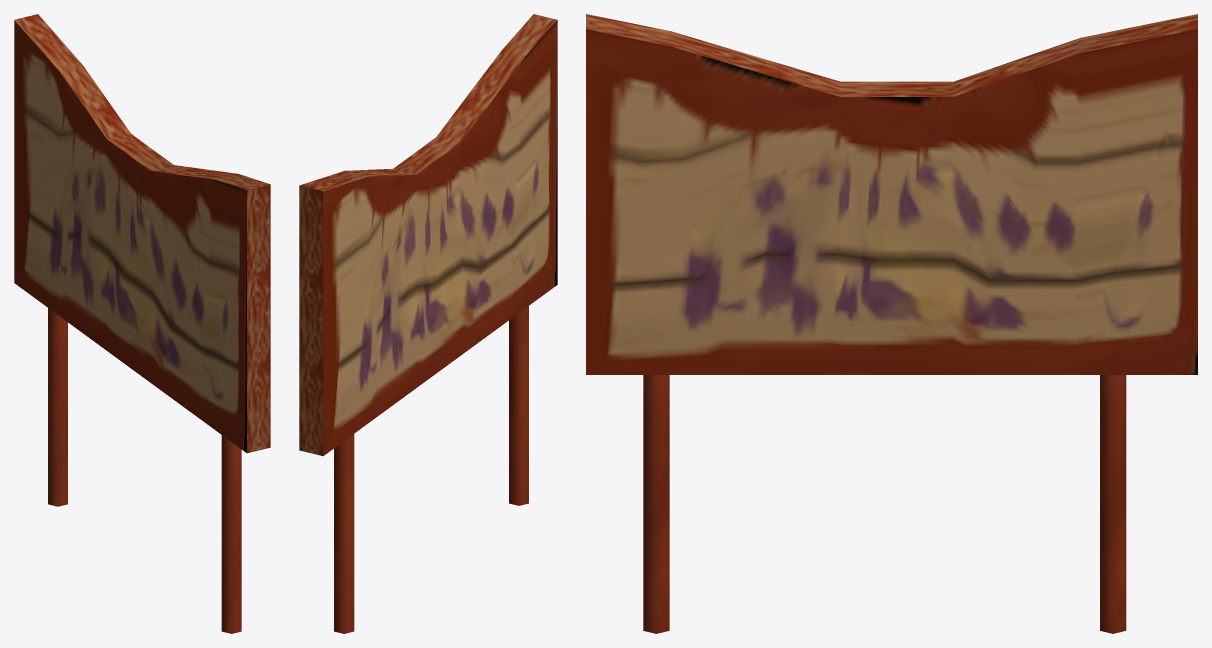
The model's file is signboard3.FBX.
3 views of the same model, side by side, from view 1: azimuth 30°, elevation 25°; view 2: azimuth 150°, elevation 25°; view 3: azimuth 270°, elevation 25° (orthographic). The views are drawn at different scales.
Visible parts, largest first — view 1: Box001; view 2: Box001; view 3: Box001.
Boxes of the visible parts, bbox=[...] form: Box001: bbox=[14, 14, 270, 633]; Box001: bbox=[299, 14, 557, 633]; Box001: bbox=[586, 14, 1197, 633].
Bounding box in the file's own units: 2.38 × 44.04 × 40.27.
